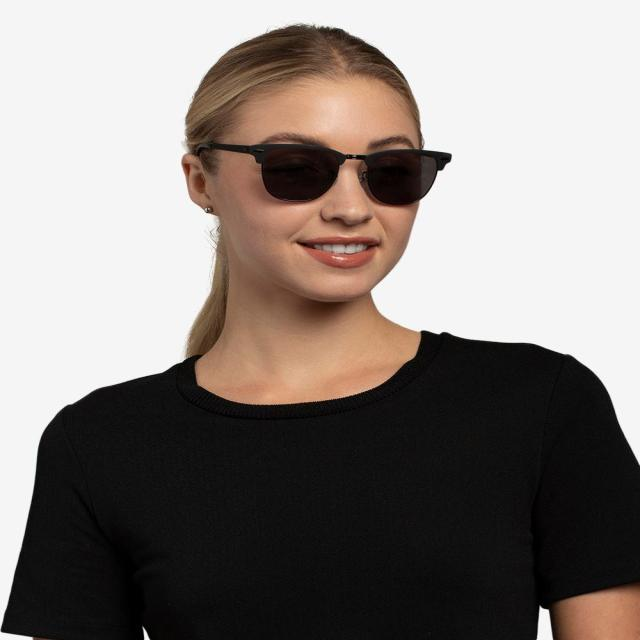2_gafas: (193, 141, 452, 206)
